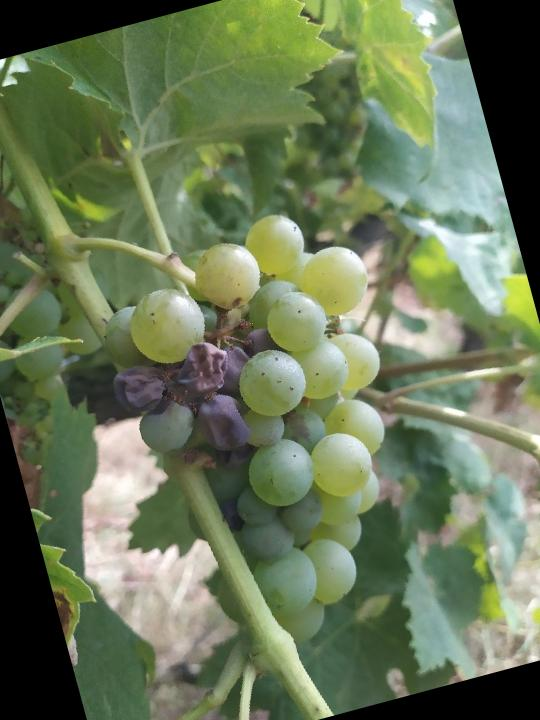grape: (79, 191, 459, 676)
